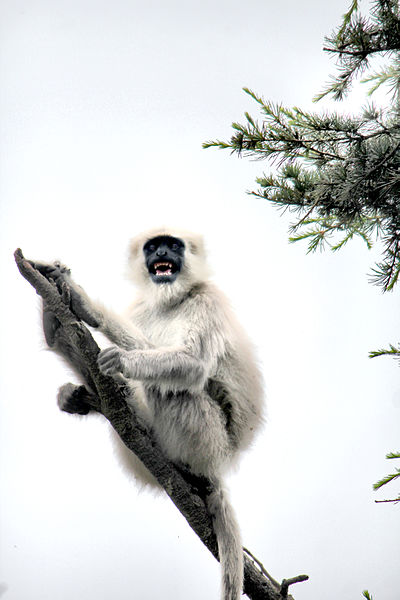monkey: (26, 203, 292, 595)
